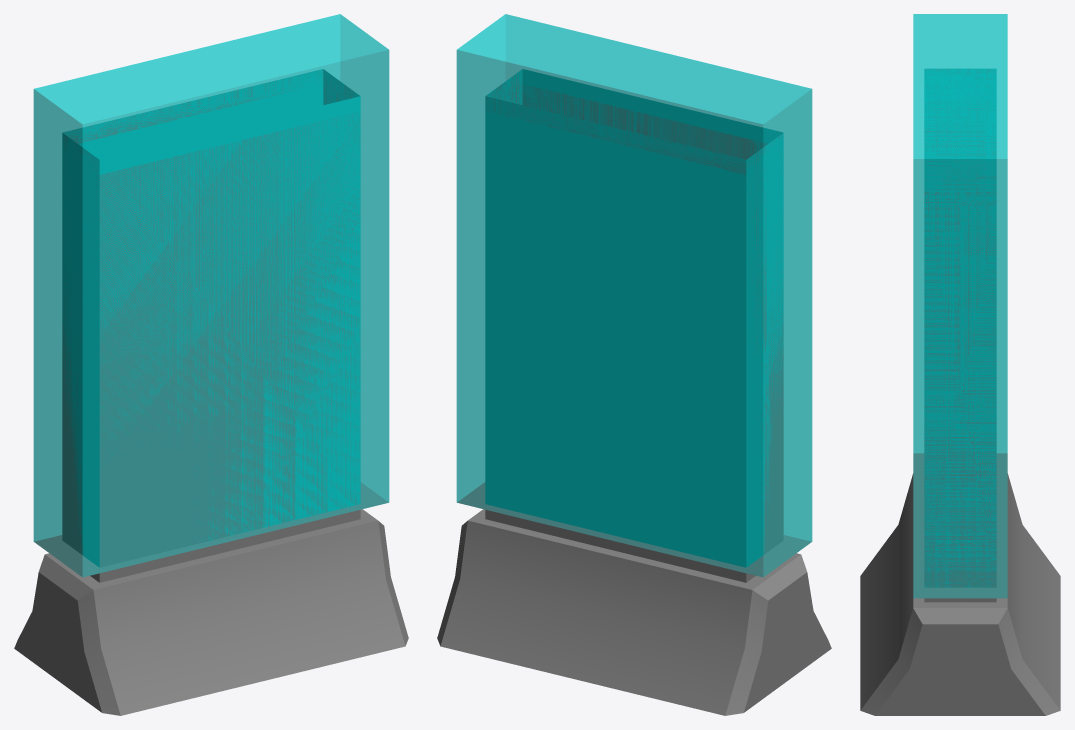
Rendered from City Sign.fbx.
3 views of the same model, side by side, from view 1: azimuth 30°, elevation 25°; view 2: azimuth 150°, elevation 25°; view 3: azimuth 270°, elevation 25° (orthographic). The views are drawn at different scales.
Visible parts, largest first — view 1: pCube1; view 2: pCube1; view 3: pCube1.
Boxes of the visible parts, box(x1,y1,x2,y2) form: pCube1: box(14, 14, 408, 715); pCube1: box(437, 14, 831, 715); pCube1: box(860, 14, 1060, 715).
Bounding box in the file's own units: 3.03 × 5.42 × 1.77.
